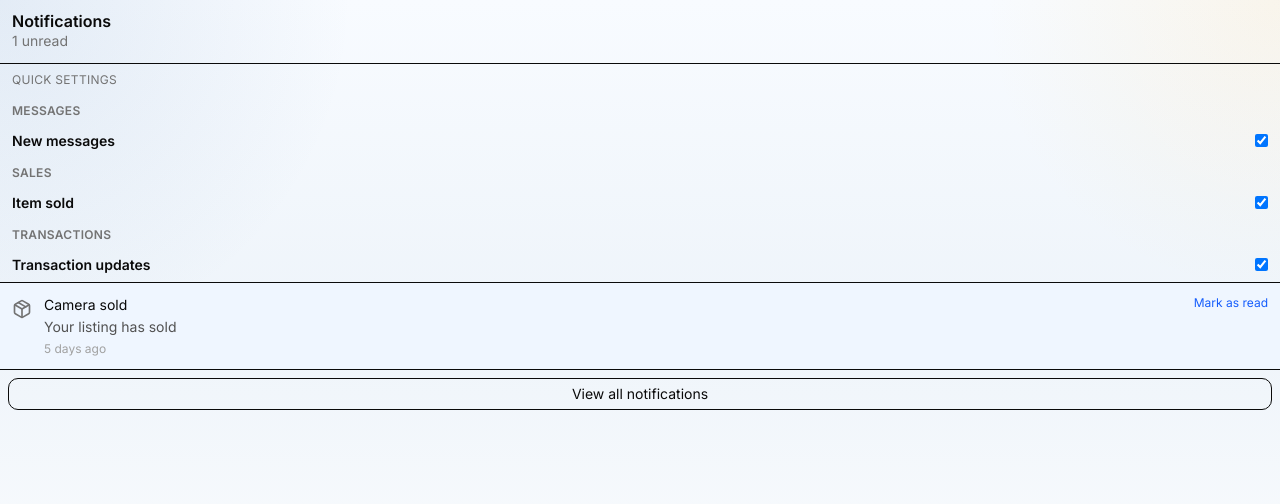
Test: Notification preference scaffolds › filters notification items immediately when quick settings are toggled off
Check: the text "Camera sold" is shown, box [44,296,127,313]
Click the checkbox labelled "Item sold".
click(1262, 202)  # box [1255,196,1268,209]
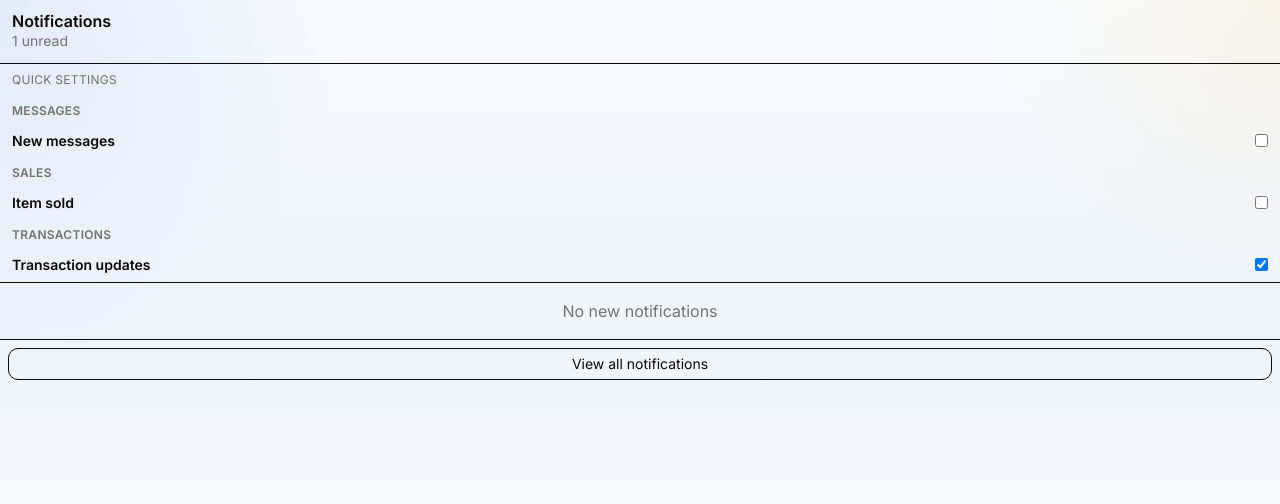
Check: the button "Camera sold" is gone
